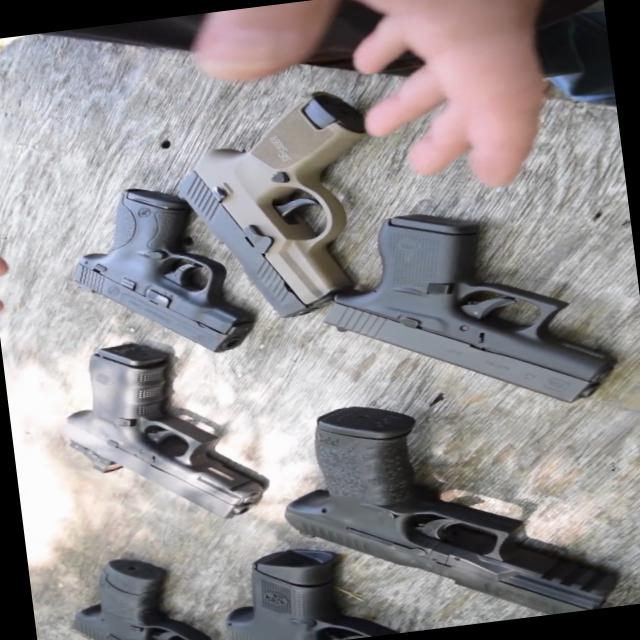handgun: (290, 368, 619, 639), (306, 186, 588, 436), (140, 91, 396, 345), (40, 325, 287, 539), (49, 164, 248, 376), (64, 540, 226, 639)
